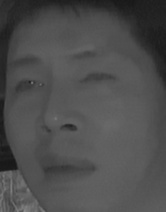eye: (78, 67, 117, 92), (10, 76, 45, 97)
mouth: (36, 147, 98, 185)
